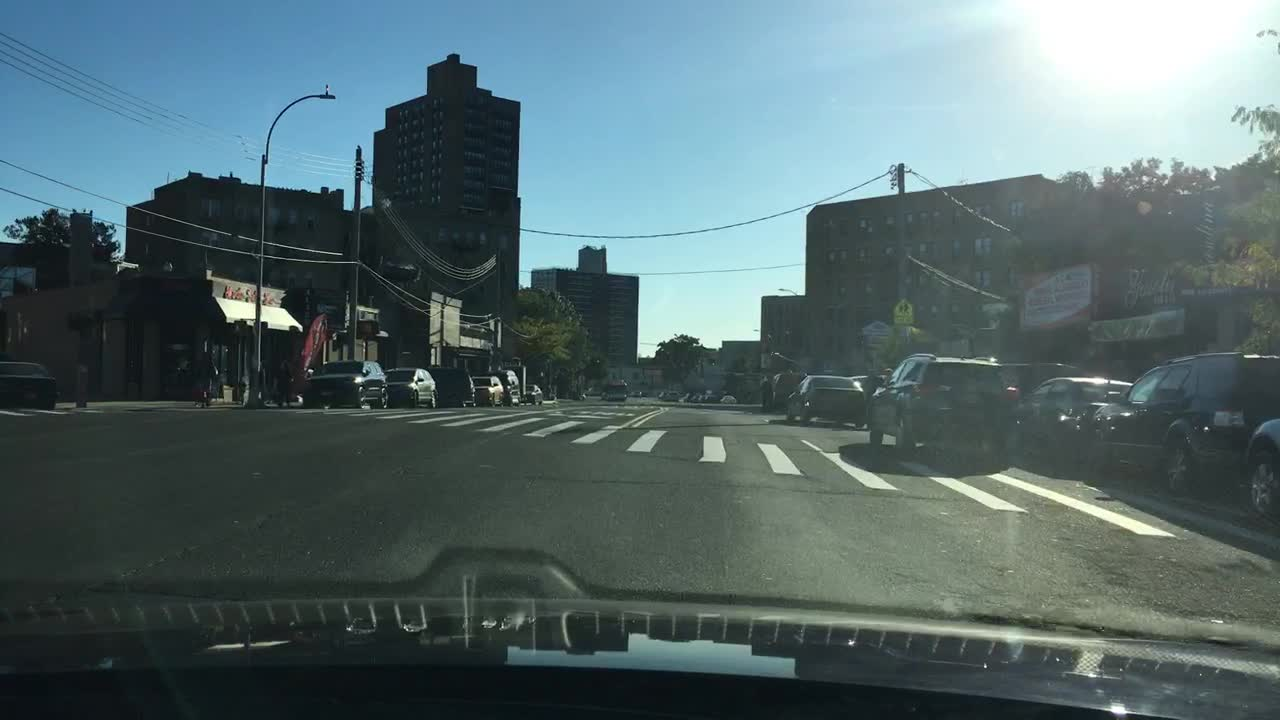car: (1084, 345, 1279, 517), (861, 351, 1030, 466), (1011, 373, 1139, 461), (782, 370, 868, 433), (300, 356, 394, 412), (1, 358, 64, 417), (980, 358, 1084, 389), (382, 365, 443, 414), (422, 361, 478, 412), (768, 368, 814, 412), (483, 366, 525, 410), (469, 372, 509, 412), (847, 370, 889, 403), (523, 384, 548, 410), (601, 377, 627, 401), (562, 387, 590, 405), (656, 387, 686, 403), (714, 394, 735, 412), (695, 391, 719, 405), (679, 391, 698, 405), (632, 389, 651, 401)
person: (193, 340, 223, 410), (275, 354, 298, 410), (758, 373, 779, 414)
traffic sign: (425, 291, 462, 349), (889, 295, 915, 328), (758, 349, 775, 366)
truck: (506, 363, 529, 407)
